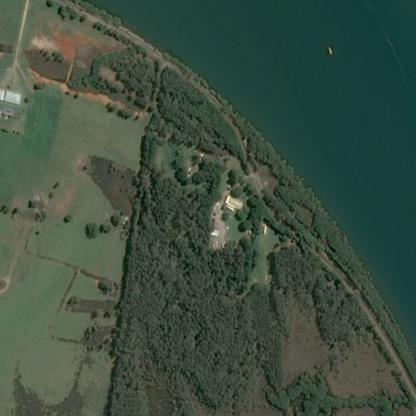ship: (320, 39, 336, 59)
